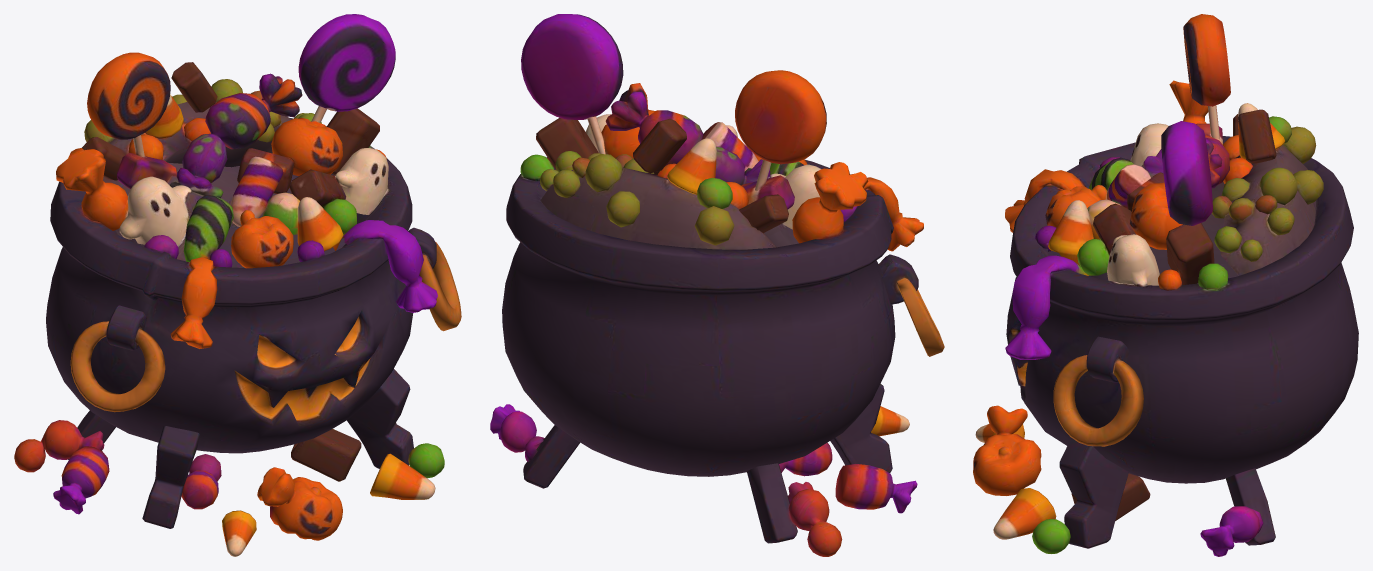
The model's file is halloween-candy-cauldron.glb.
3 views of the same model, side by side, from view 1: azimuth 30°, elevation 25°; view 2: azimuth 150°, elevation 25°; view 3: azimuth 270°, elevation 25° (orthographic). The views are drawn at different scales.
Visible parts, largest first — view 1: CandyCauldron; view 2: CandyCauldron; view 3: CandyCauldron.
Part boxes in pixels (x1,y1,x2,y2): CandyCauldron: (14, 14, 461, 556); CandyCauldron: (490, 14, 944, 556); CandyCauldron: (973, 14, 1358, 556).
Bounding box in the file's own units: 0.9463 × 1 × 0.8085.
1 material, 1 textured.
